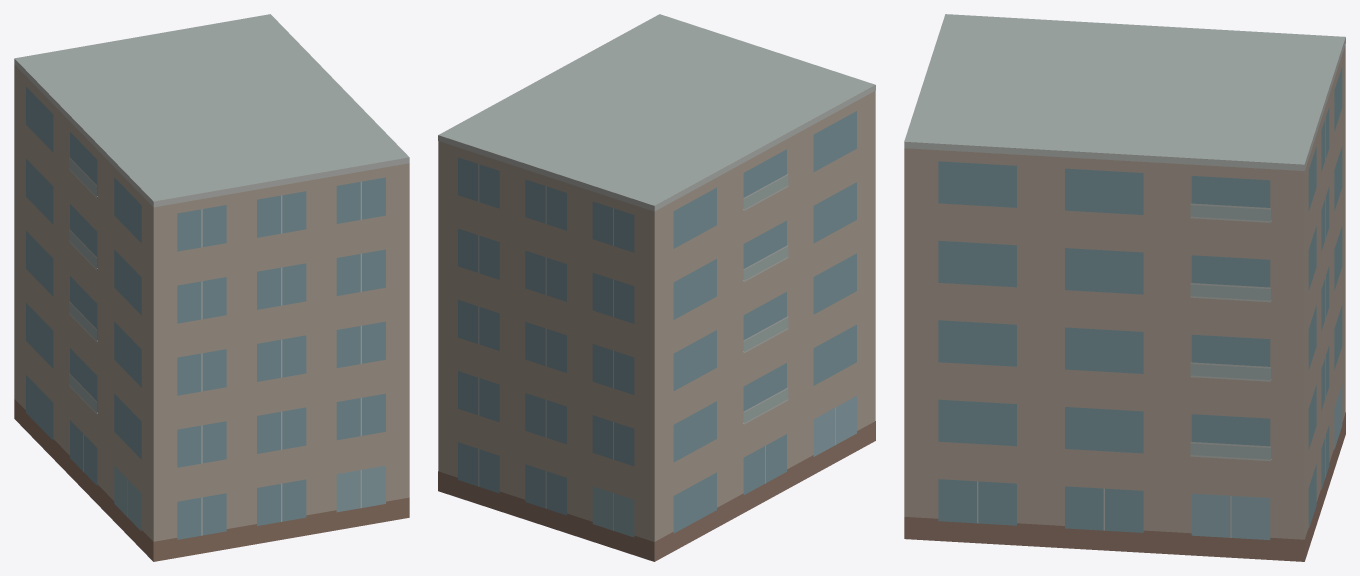
The model's file is survey-upis-32893372.glb.
3 views of the same model, side by side, from view 1: azimuth 30°, elevation 25°; view 2: azimuth 150°, elevation 25°; view 3: azimuth 270°, elevation 25° (orthographic). The views are drawn at different scales.
Parts seen in each view (by area): view 1: survey-upis-32893372.tmp; view 2: survey-upis-32893372.tmp; view 3: survey-upis-32893372.tmp.
Boxes of the visible parts, x1,y1,x2,y2 form: survey-upis-32893372.tmp: (14, 14, 409, 561); survey-upis-32893372.tmp: (438, 14, 875, 561); survey-upis-32893372.tmp: (904, 14, 1345, 561).
Size of the model in its own units: 12.25 by 15.05 by 15.18.
